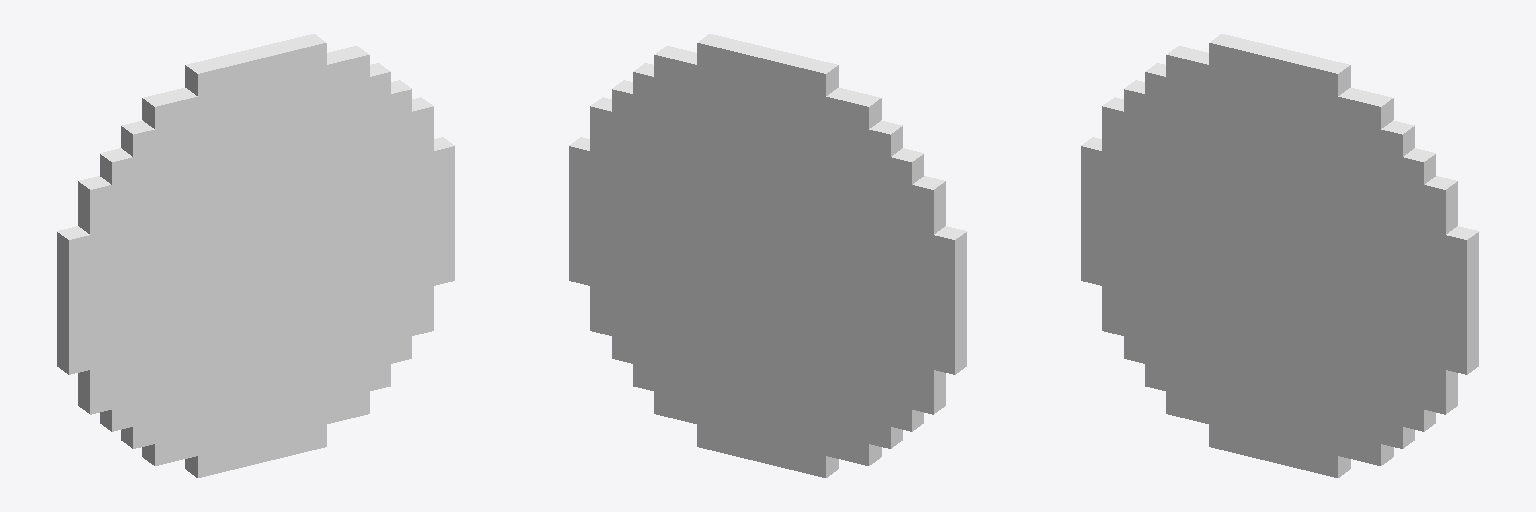
The model's file is Soul_2.obj.
3 views of the same model, side by side, from view 1: azimuth 30°, elevation 25°; view 2: azimuth 150°, elevation 25°; view 3: azimuth 330°, elevation 25° (orthographic).
Visible parts, largest first — view 1: object 1; view 2: object 1; view 3: object 1.
Boxes of the visible parts, x1=… form: object 1: x1=57, y1=34, x2=454, y2=477; object 1: x1=569, y1=34, x2=966, y2=477; object 1: x1=1081, y1=34, x2=1478, y2=477.
Size of the model in its own units: 1.8 by 1.8 by 0.1.